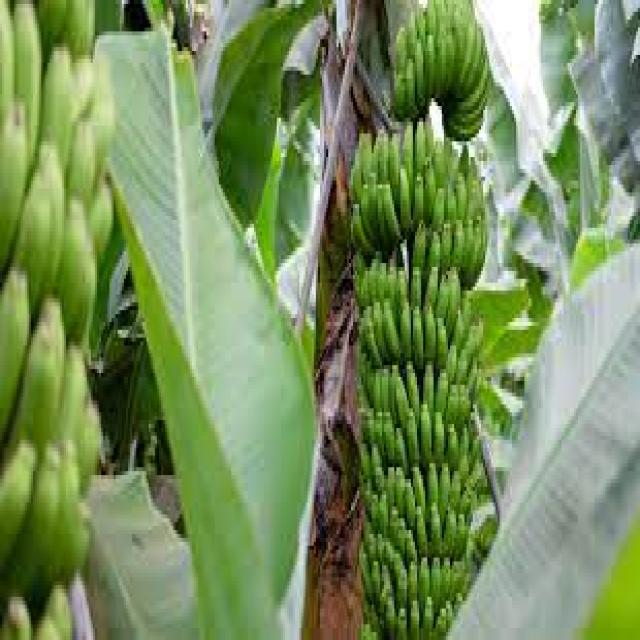banana: (352, 452, 476, 632), (348, 125, 502, 260), (346, 242, 486, 372), (339, 366, 484, 469), (392, 6, 500, 122)
